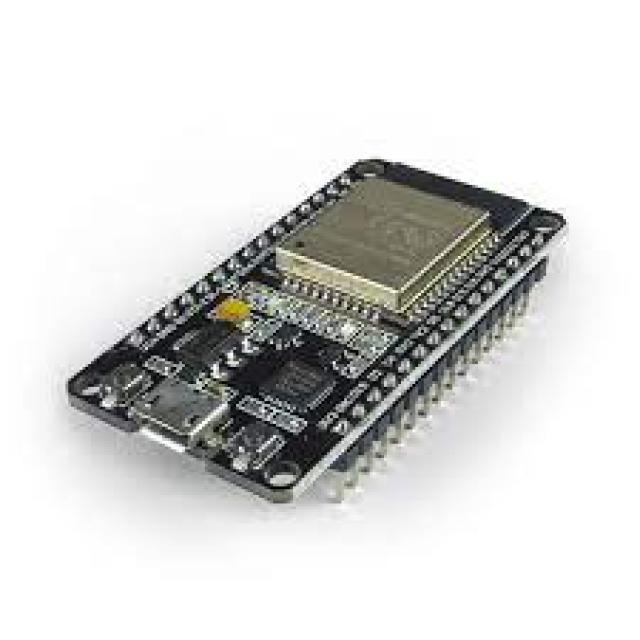ESP32: (72, 160, 564, 502)
